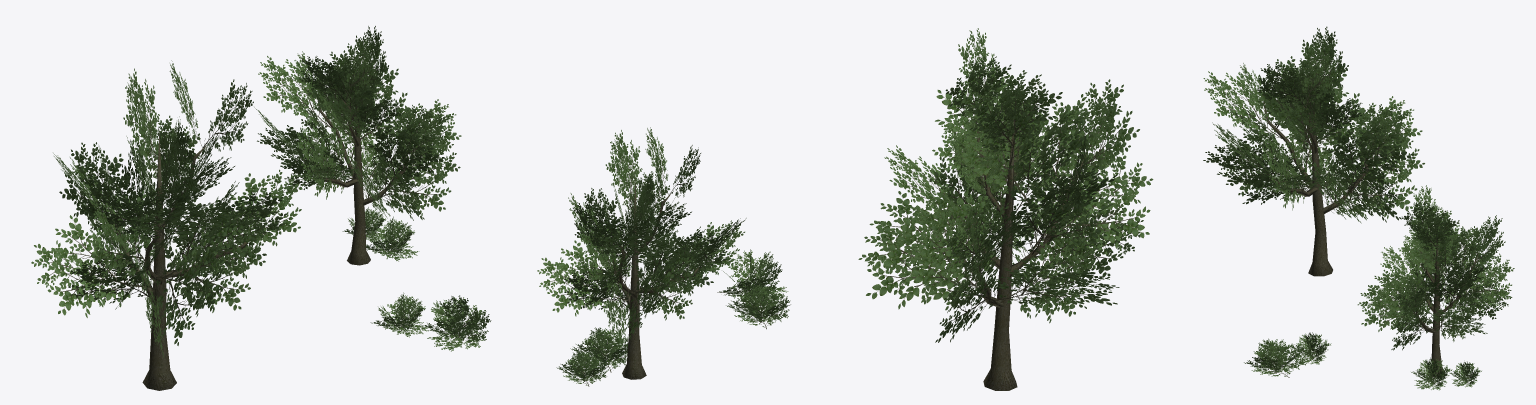
The model's file is Trees_1_Playground_COMBO.fbx.
3 renders of one model, left to right at view 1: azimuth 30°, elevation 25°; view 2: azimuth 150°, elevation 25°; view 3: azimuth 270°, elevation 25°, orthographic. The views are drawn at different scales.
Visible parts, largest first — view 1: Sun_0013_Large_tree; view 2: Sun_0013_Large_tree; view 3: Sun_0013_Large_tree.
Part boxes in pixels (left/top/right/bottom): Sun_0013_Large_tree: left=31, top=26, right=491, bottom=390; Sun_0013_Large_tree: left=537, top=28, right=1153, bottom=390; Sun_0013_Large_tree: left=1203, top=26, right=1514, bottom=390.
Size of the model in its own units: 25.24 by 16.34 by 19.69.
